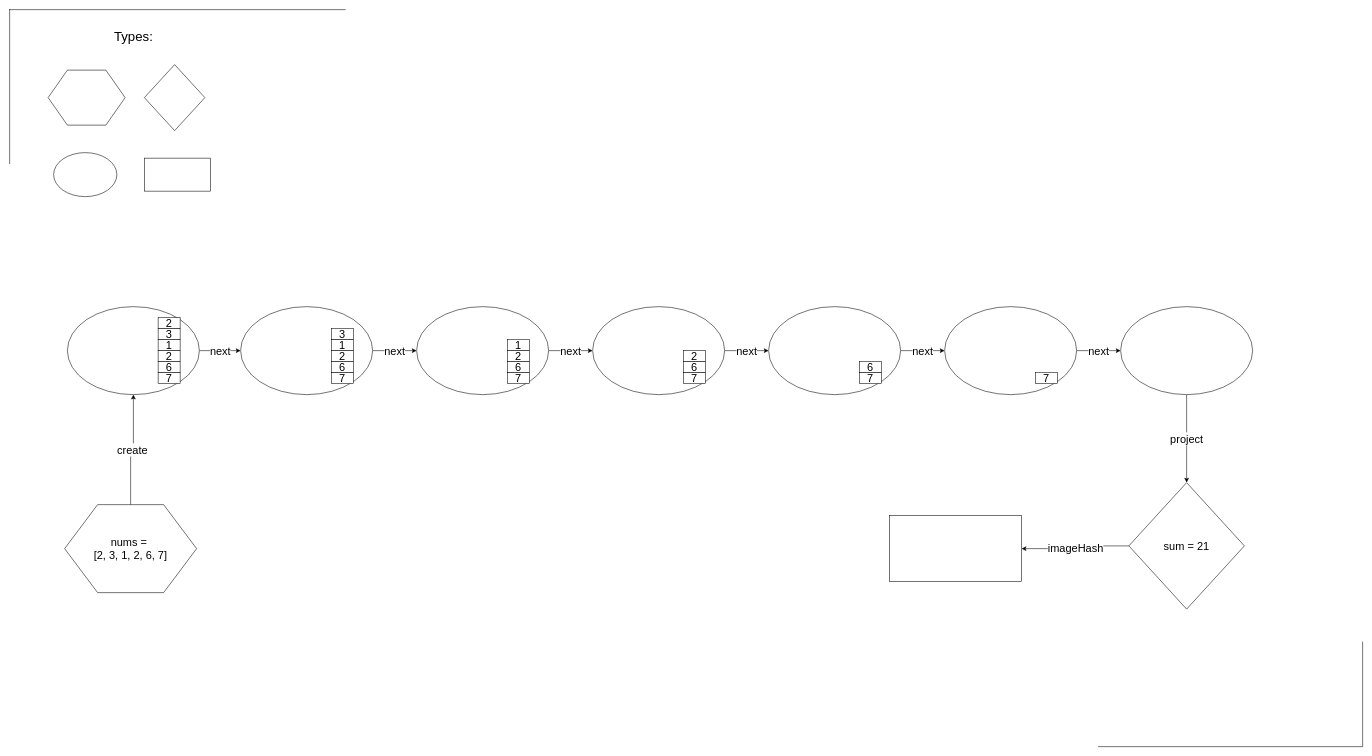
The diagram is 1372 pixels wide and 756 high, and some of its shapes have lost their labels. The box of each missing label's shape, as (x1, y1, x2, y2) in pixels:
0x23fa2e3...: (889, 515, 1022, 582)
bytes32: (144, 158, 210, 191)
Image: (144, 64, 205, 131)
Seed: (48, 70, 125, 125)
State: (53, 152, 117, 197)
sum = 0, stack =: (67, 306, 199, 395)
sum = 14, stack =: (944, 306, 1077, 395)
sum = 2, stack =: (240, 306, 373, 395)
sum = 21, stack =: (1120, 306, 1253, 395)
sum = 5, stack =: (416, 306, 549, 395)
sum = 6, stack =: (592, 306, 725, 395)
sum = 8, stack =: (768, 306, 901, 395)
